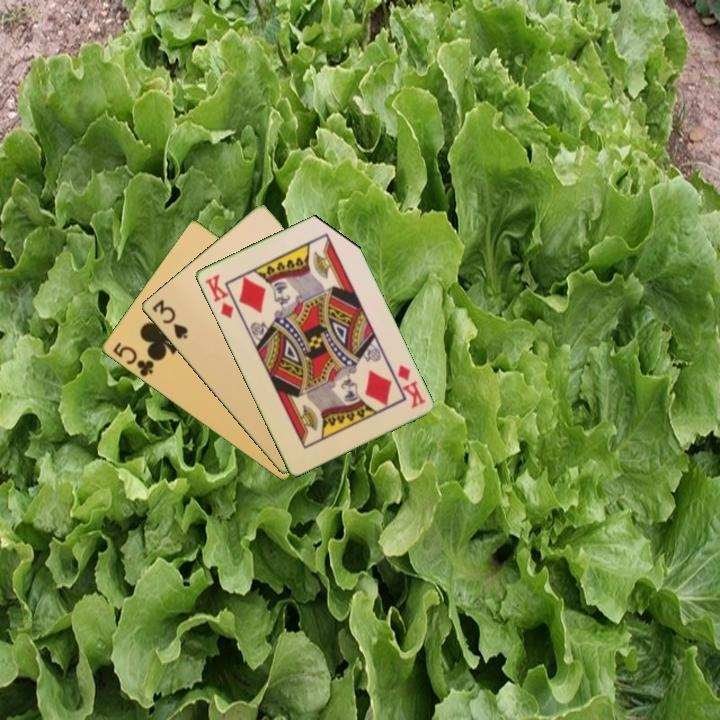3s: (148, 296, 191, 342)
5c: (109, 339, 158, 380)
Kd: (201, 271, 236, 322), (394, 361, 428, 411)
